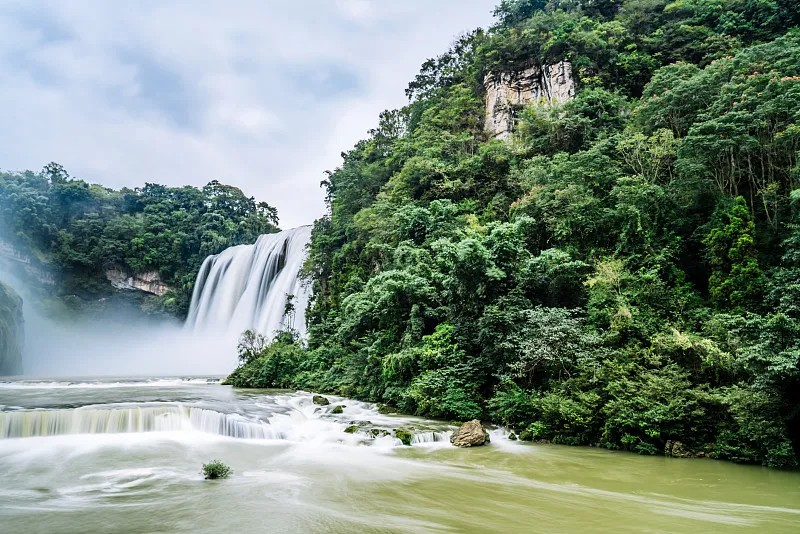Huangguoshu: (177, 224, 310, 375)
